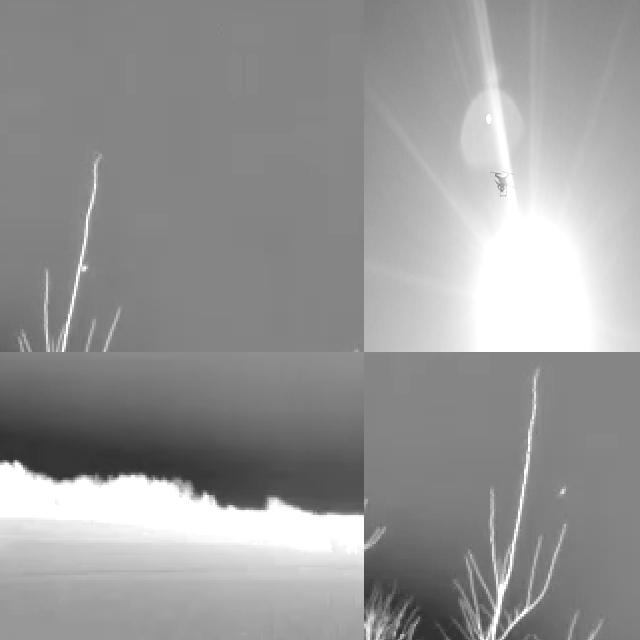0: (552, 480, 576, 508), (78, 260, 94, 280)
drone: (488, 166, 516, 199)
